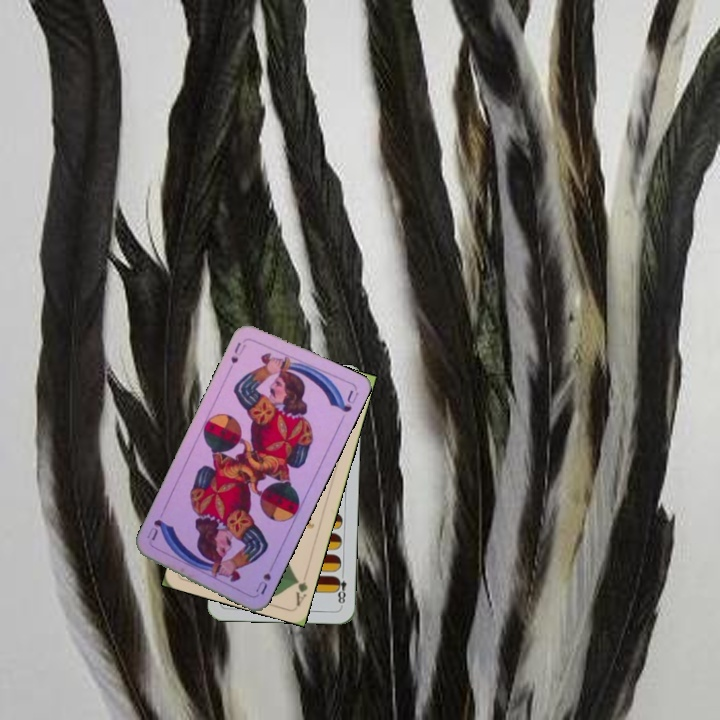E8: (332, 568, 349, 608)
GA: (291, 568, 311, 608)
SU: (251, 559, 277, 598), (227, 336, 249, 366)
